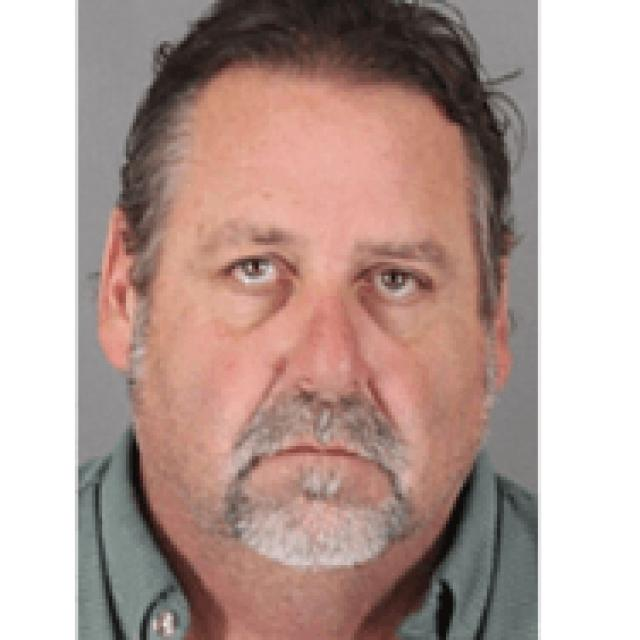Depress: (135, 68, 486, 567)
